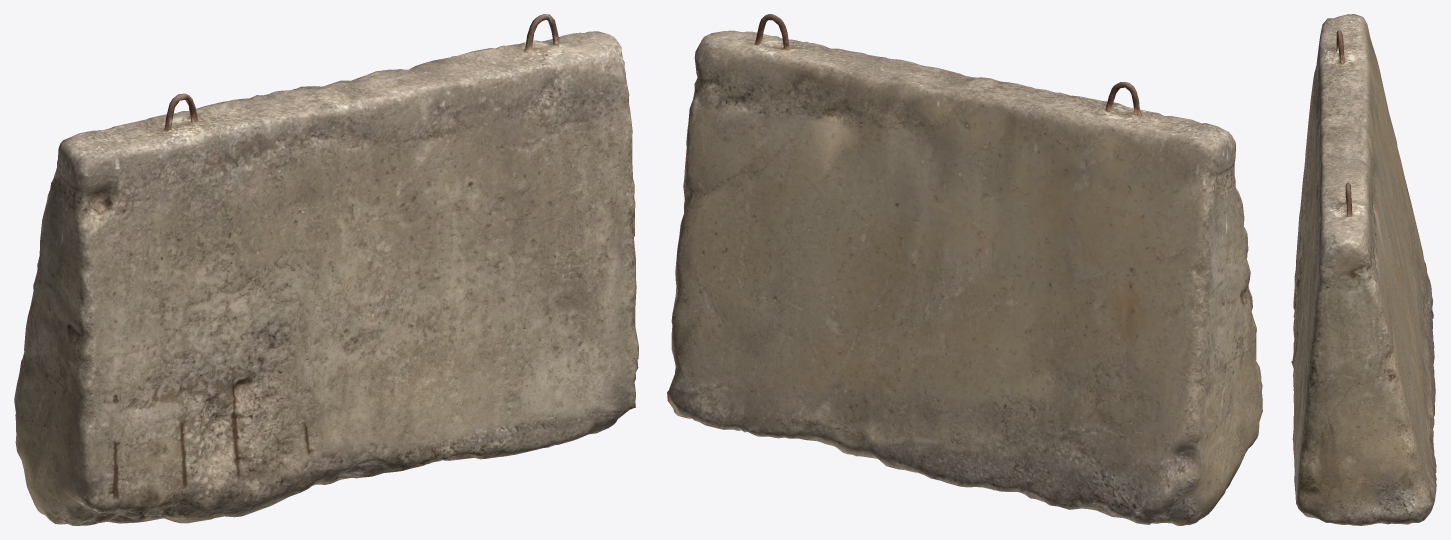
The model's file is concrete_road_barrier_02.glb.
The picture shows the model from 3 angles, left to right: view 1: azimuth 30°, elevation 25°; view 2: azimuth 150°, elevation 25°; view 3: azimuth 270°, elevation 25°; orthographic projection. The views are drawn at different scales.
Parts seen in each view (by area): view 1: concrete_road_barrier_02; view 2: concrete_road_barrier_02; view 3: concrete_road_barrier_02.
Boxes of the visible parts, box(x1,y1,x2,y2) form: concrete_road_barrier_02: box(14, 14, 638, 525); concrete_road_barrier_02: box(667, 14, 1262, 525); concrete_road_barrier_02: box(1291, 14, 1436, 525).
Size of the model in its own units: 1.57 by 1.11 by 0.4422.
Materials: 1 (1 with a texture image).
